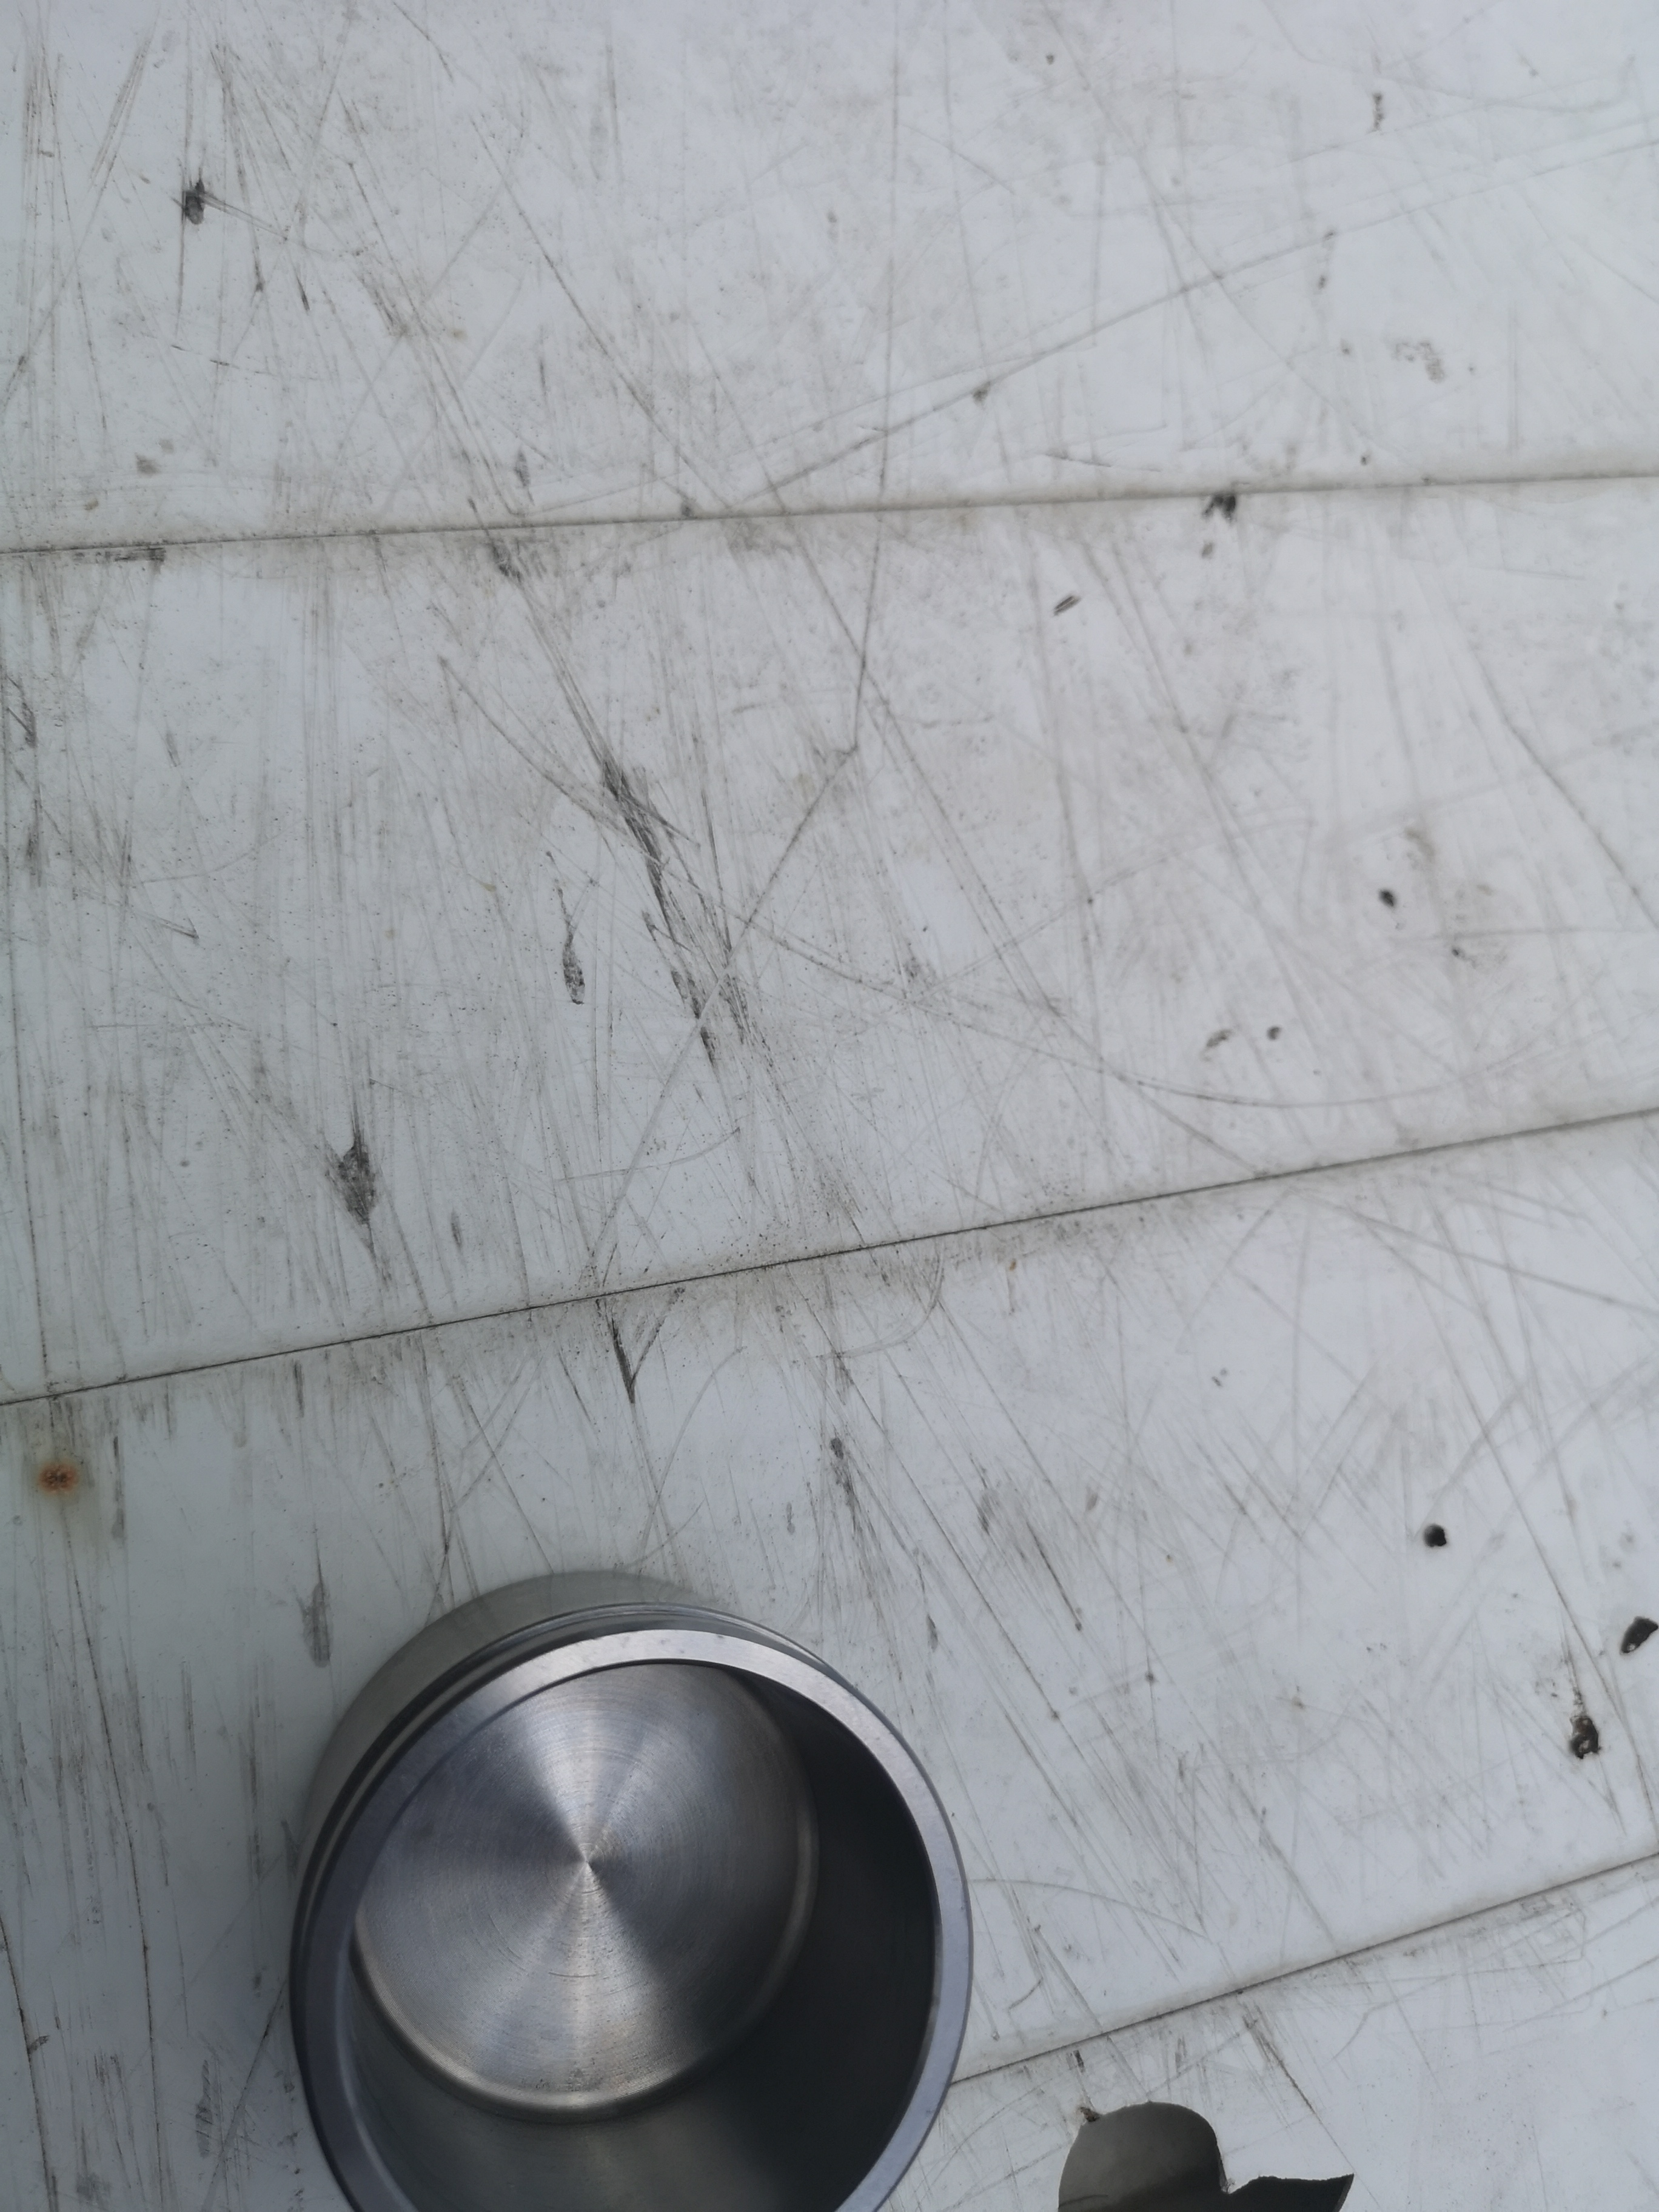ลูกสูบดิสเบรค: (319, 1580, 951, 2212)
